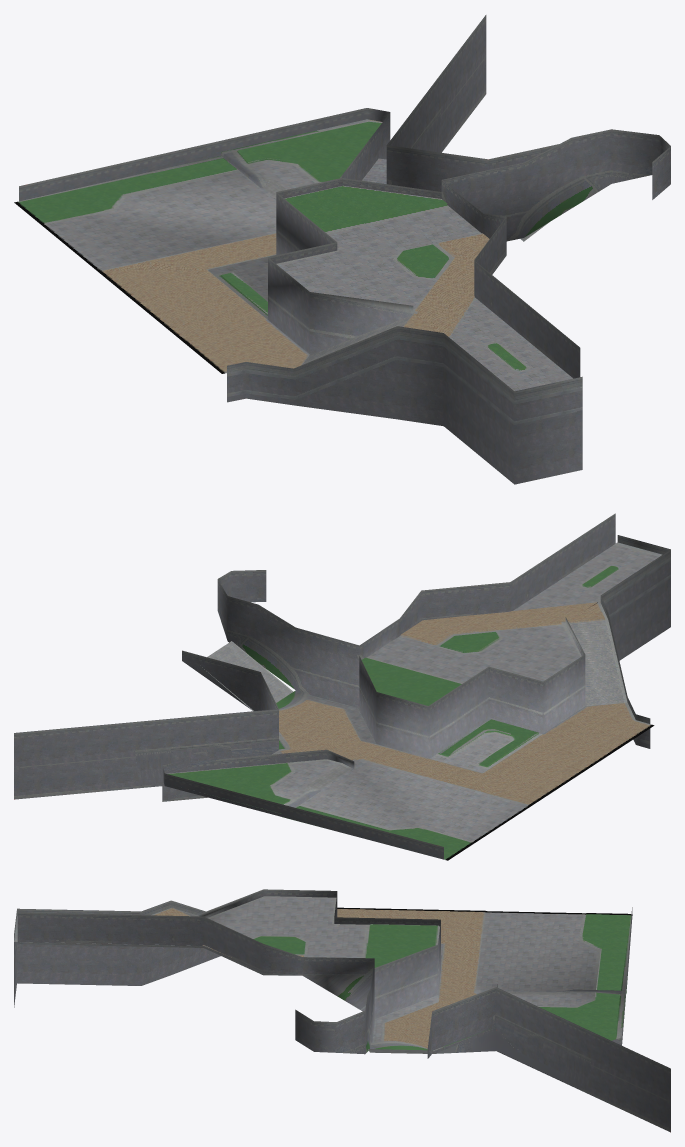
Rendered from plot05.fbx.
3 renders of one model, top to bottom at view 1: azimuth 30°, elevation 25°; view 2: azimuth 150°, elevation 25°; view 3: azimuth 270°, elevation 25°, orthographic. The views are drawn at different scales.
Visible parts, largest first — view 1: nt:*ObjectIndoorScene_Md_KnightOutDoor_MD_CityArea_MdCi_b1fb; view 2: nt:*ObjectIndoorScene_Md_KnightOutDoor_MD_CityArea_MdCi_b1fb; view 3: nt:*ObjectIndoorScene_Md_KnightOutDoor_MD_CityArea_MdCi_b1fb.
Boxes of the visible parts, x1,y1,x2,y2 form: nt:*ObjectIndoorScene_Md_KnightOutDoor_MD_CityArea_MdCi_b1fb: (14,15,670,484); nt:*ObjectIndoorScene_Md_KnightOutDoor_MD_CityArea_MdCi_b1fb: (14,513,670,860); nt:*ObjectIndoorScene_Md_KnightOutDoor_MD_CityArea_MdCi_b1fb: (14,889,670,1132).
Bounding box in the file's own units: 145 × 32.74 × 200.
